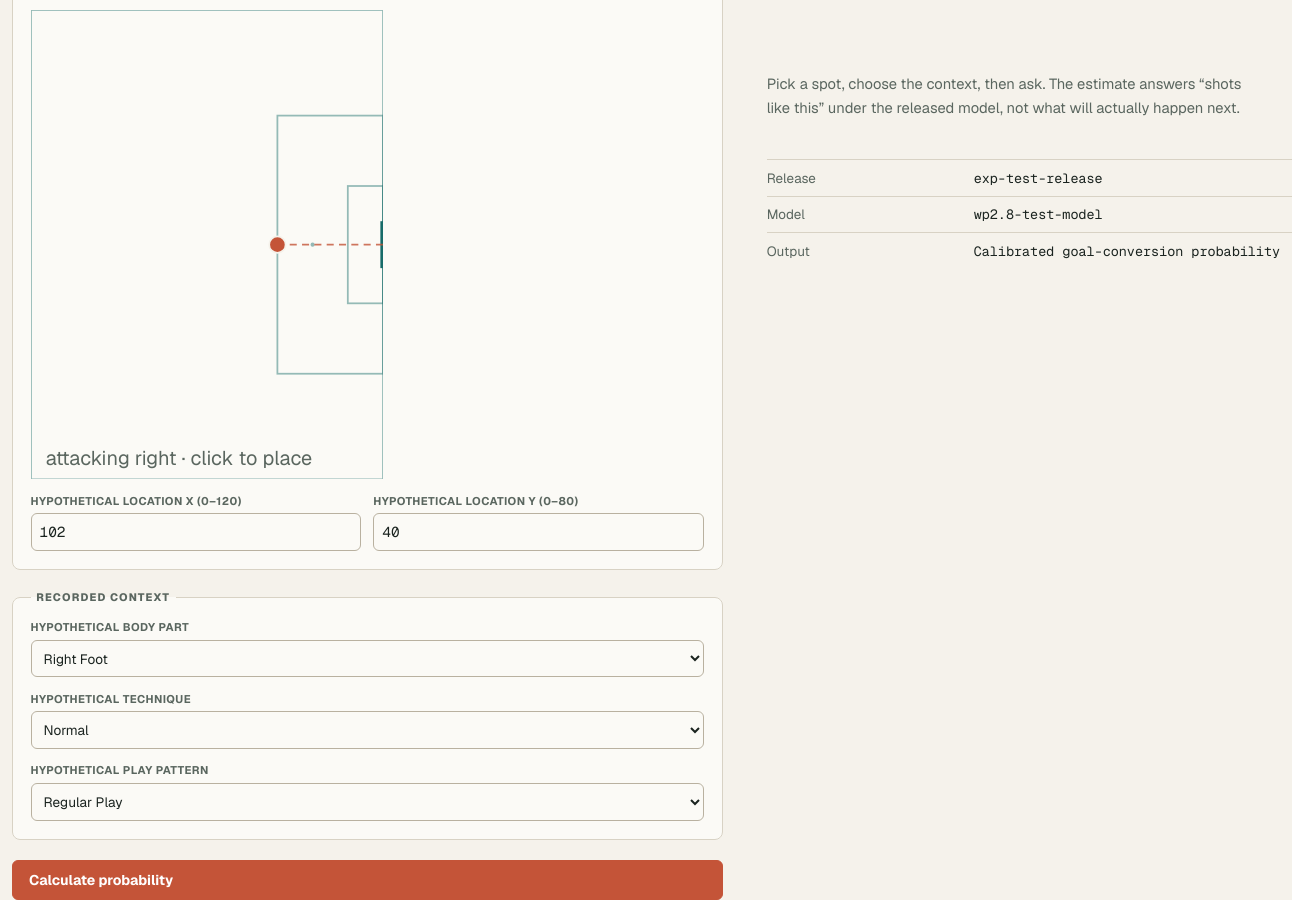
PredictionPlayground › maps field-level validation issues to the inputs that caused them
The width and height of the screenshot is (1292, 900).
(page scrolled)
Click the button "Calculate probability" at (101, 880), box 12,860 -> 723,899
(page scrolled)
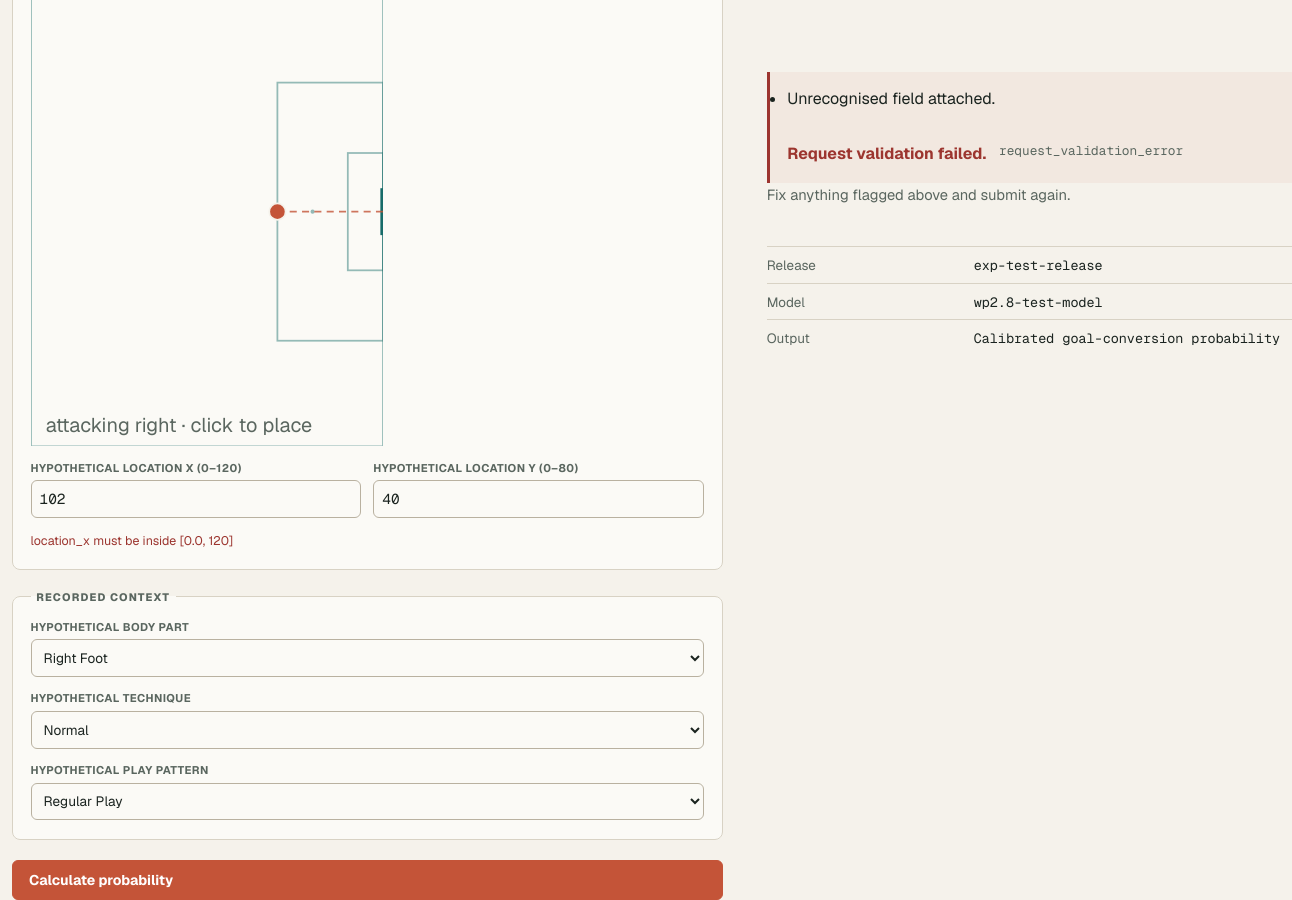
expect the text "location_x must be inside [0.0, 120]" is shown: met, box 31,532 -> 233,549
expect the list item "Unrecognised field attached." is shown: met, box 787,88 -> 995,109
